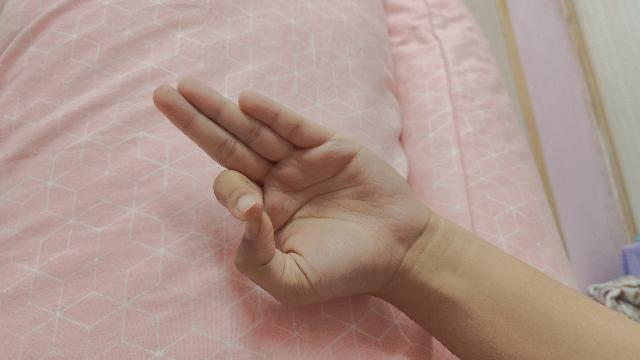aral: (153, 80, 640, 360)
